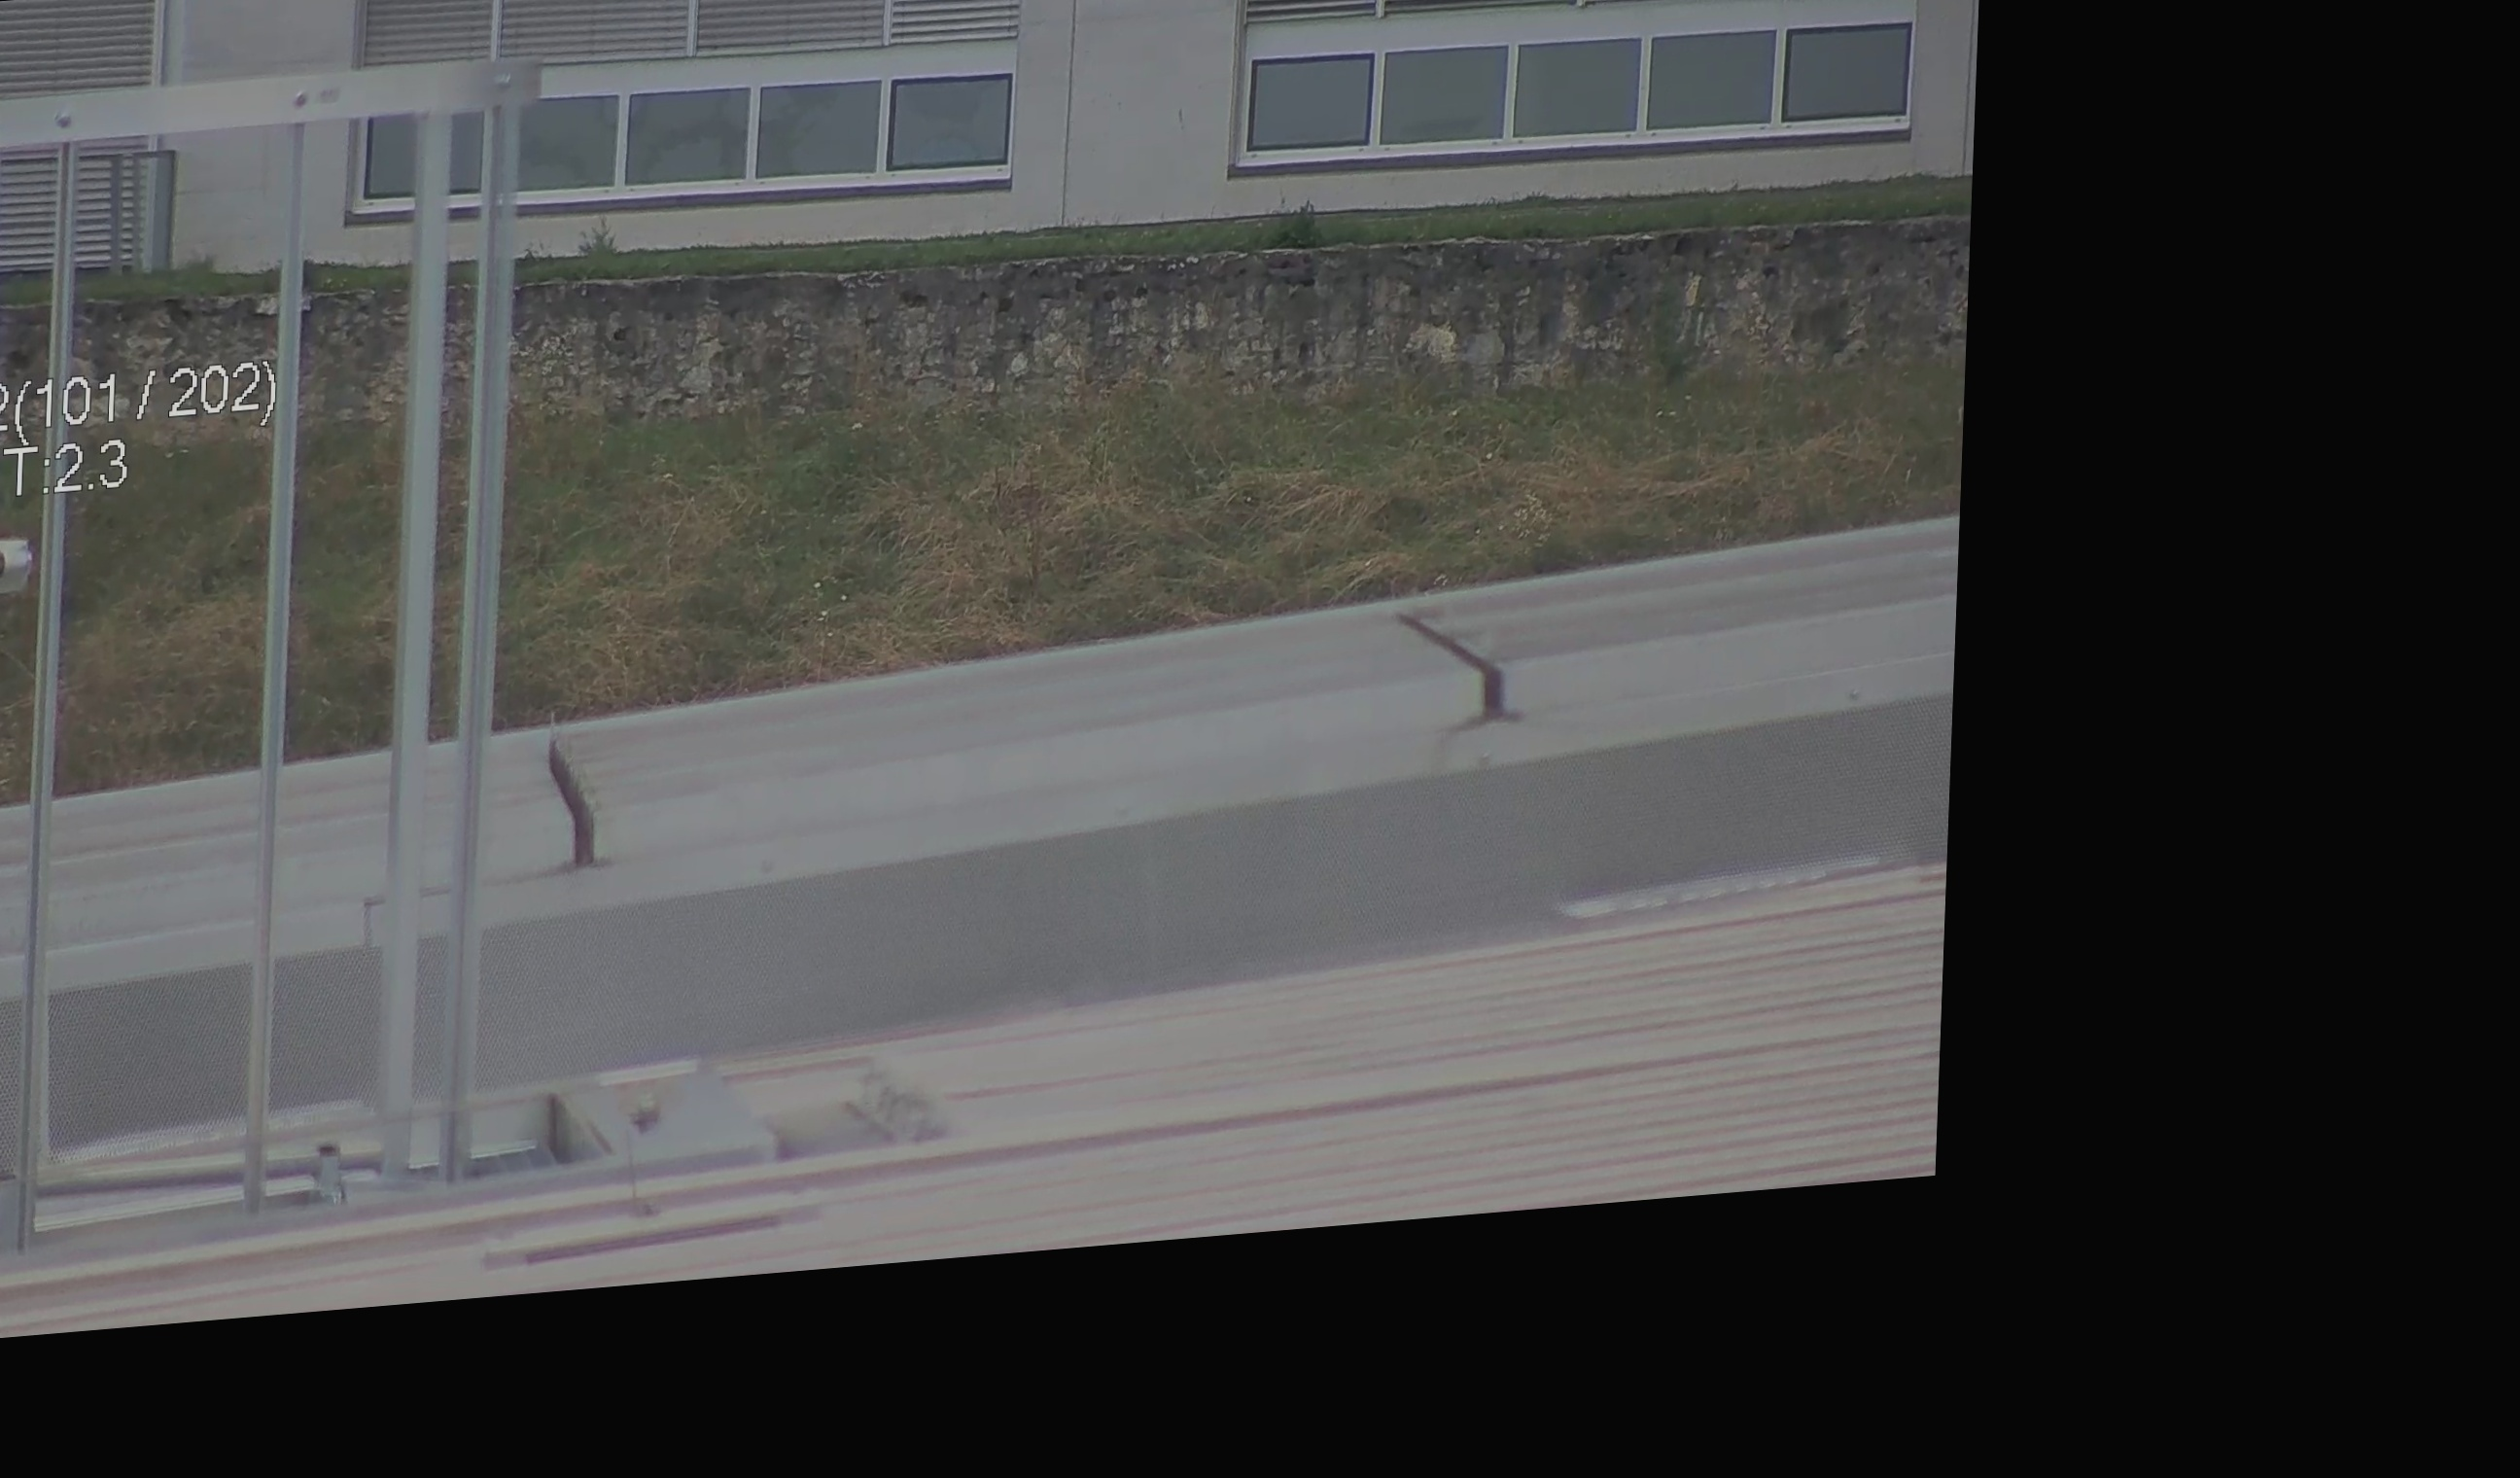Other: (522, 713, 615, 883)
